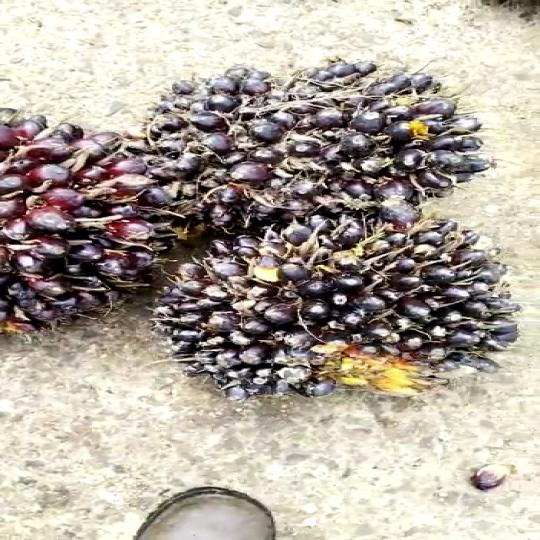mentah: (178, 194, 527, 418), (178, 58, 510, 232), (0, 82, 186, 320)
